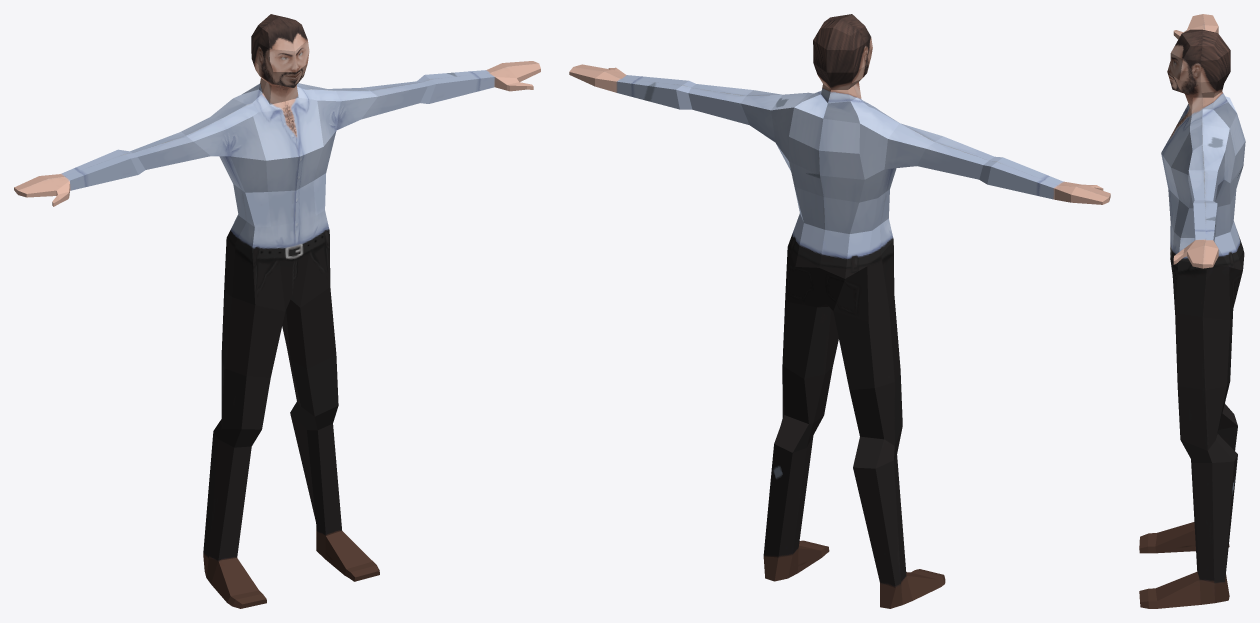
Rendered from meżczyzna.glb.
3 renders of one model, left to right at view 1: azimuth 30°, elevation 25°; view 2: azimuth 150°, elevation 25°; view 3: azimuth 270°, elevation 25°, orthographic. The views are drawn at different scales.
Visible parts, largest first — view 1: Cube.005; view 2: Cube.005; view 3: Cube.005.
Part boxes in pixels (x1,y1,x2,y2): Cube.005: [14, 14, 540, 608]; Cube.005: [569, 14, 1110, 608]; Cube.005: [1139, 14, 1245, 608].
Bounding box in the file's own units: 4.42 × 4.48 × 0.794.
Materials: 1 (1 with a texture image).
